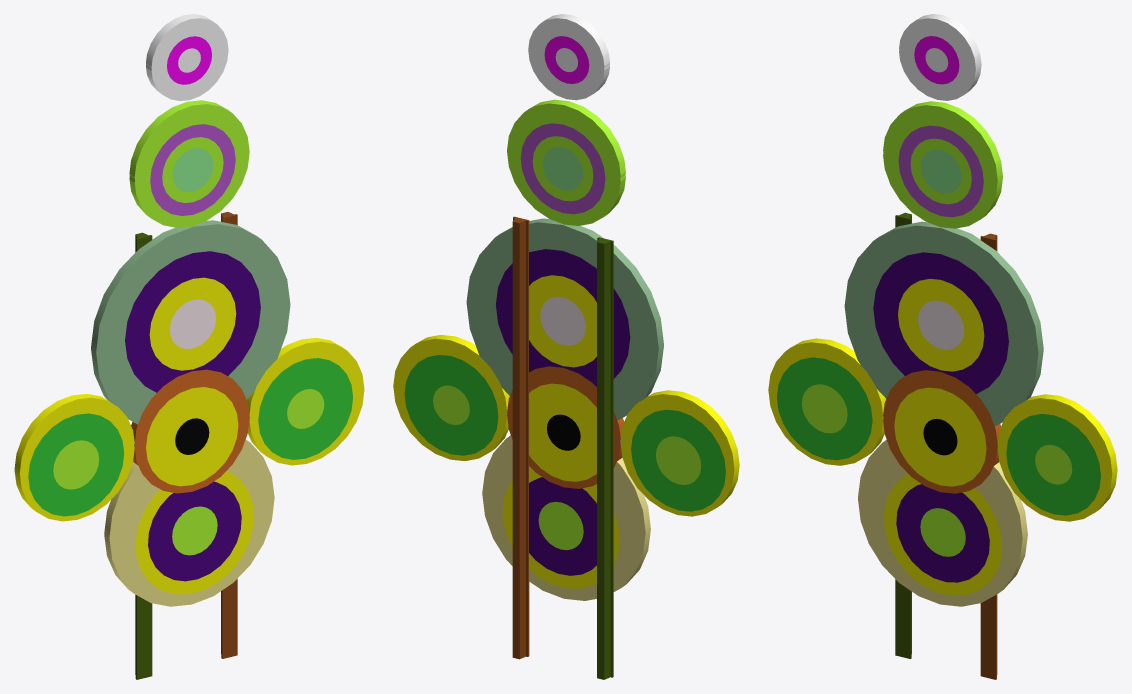
Rendered from flag3.fbx.
The picture shows the model from 3 angles, left to right: view 1: azimuth 30°, elevation 25°; view 2: azimuth 150°, elevation 25°; view 3: azimuth 330°, elevation 25°; orthographic projection.
Parts seen in each view (by area): view 1: Group1, Group2; view 2: Group1, Group2; view 3: Group1, Group2.
Boxes of the visible parts, box(x1,y1,x2,y2) form: Group1: box(14, 14, 364, 606); Group2: box(135, 212, 237, 679); Group1: box(393, 14, 739, 600); Group2: box(512, 216, 613, 679); Group1: box(768, 14, 1117, 606); Group2: box(895, 212, 997, 679).
Bounding box in the file's own units: 1997 × 3615 × 111.
